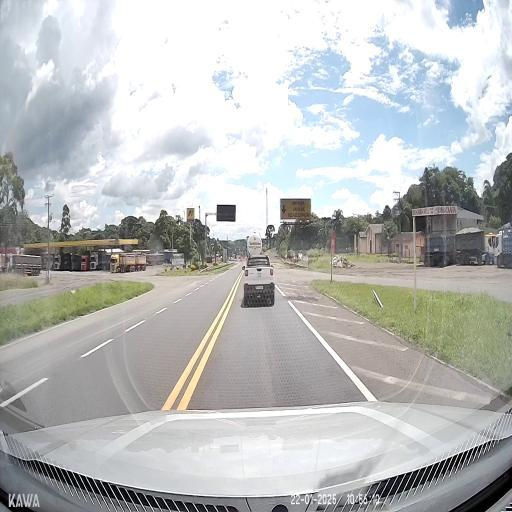R-1: (331, 229, 335, 255)
